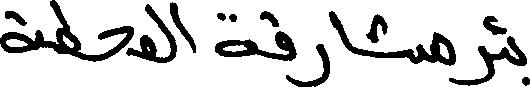X: (457, 11, 493, 86), (297, 7, 329, 86), (215, 8, 254, 61), (425, 27, 455, 86), (0, 6, 32, 57), (172, 0, 195, 64), (99, 21, 132, 65), (57, 0, 80, 63), (276, 14, 295, 86), (510, 31, 529, 86), (331, 6, 350, 55), (141, 0, 155, 66), (157, 0, 170, 67), (405, 39, 423, 68), (502, 23, 508, 65)
